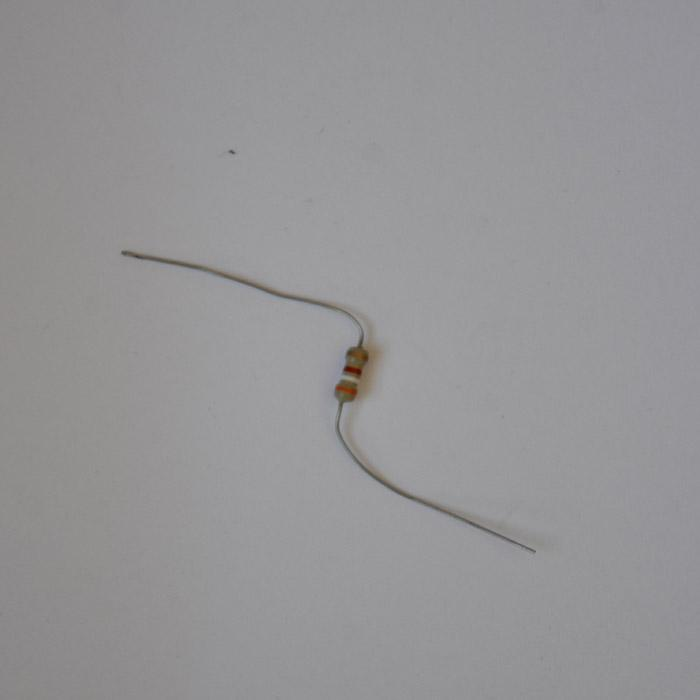resistor: (333, 344, 370, 401)
